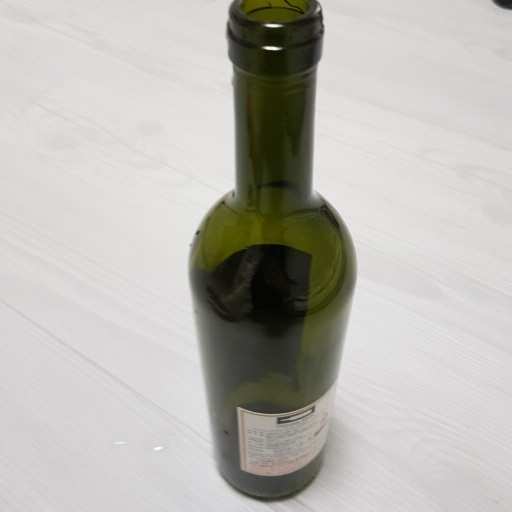Glass_2: (187, 1, 359, 503)
